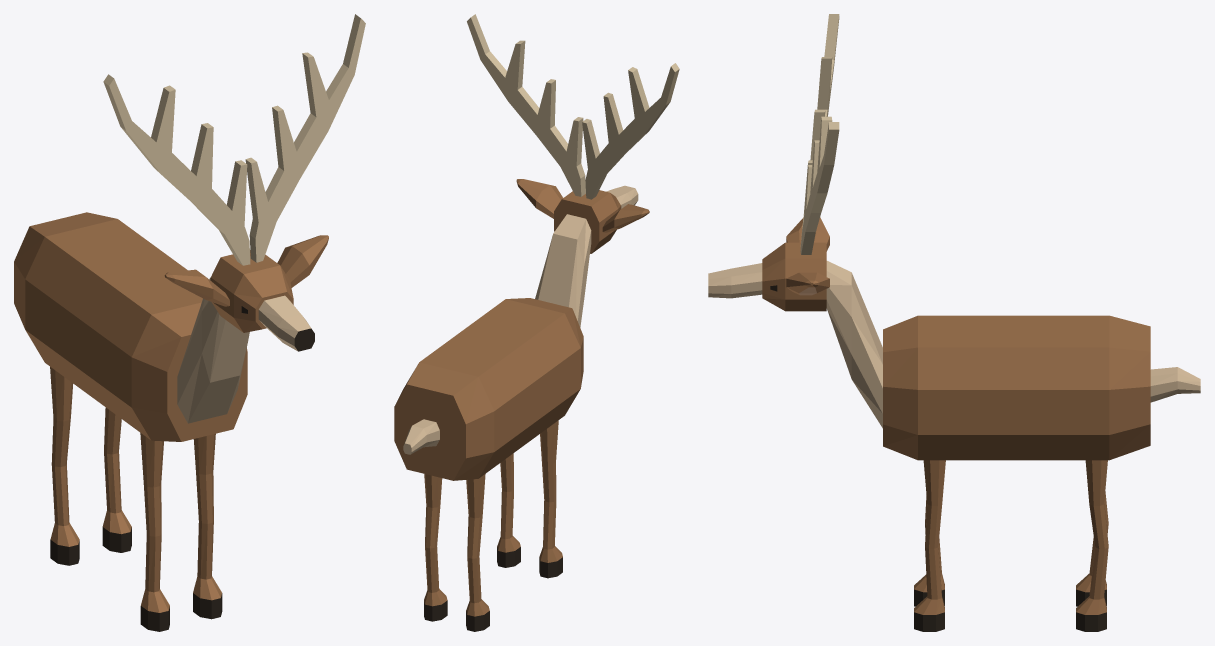
3 renders of one model, left to right at view 1: azimuth 30°, elevation 25°; view 2: azimuth 150°, elevation 25°; view 3: azimuth 270°, elevation 25°, orthographic. The views are drawn at different scales.
Parts seen in each view (by area): view 1: LongTaperedDeerTorso, RightCompleteFourTipBranchedAntler, LeftCompleteFourTipBranchedAntler, AscendingSlenderNeck, SmallCheekedHead_IntegralEyes, LeftForeContinuousLegAndHoof, LeftHindContinuousLegAndHoof, RightForeContinuousLegAndHoof, RightHindContinuousLegAndHoof, TaperedMuzzle_IntegralNose, RightOutwardPointedThickEar, LeftOutwardPointedThickEar; view 2: LongTaperedDeerTorso, RightCompleteFourTipBranchedAntler, LeftCompleteFourTipBranchedAntler, AscendingSlenderNeck, LeftHindContinuousLegAndHoof, LeftForeContinuousLegAndHoof, RightHindContinuousLegAndHoof, SmallCheekedHead_IntegralEyes, RightForeContinuousLegAndHoof, RightOutwardPointedThickEar, ShortTaperedTail, LeftOutwardPointedThickEar (+1 smaller); view 3: LongTaperedDeerTorso, AscendingSlenderNeck, SmallCheekedHead_IntegralEyes, RightHindContinuousLegAndHoof, RightForeContinuousLegAndHoof, RightCompleteFourTipBranchedAntler, LeftCompleteFourTipBranchedAntler, TaperedMuzzle_IntegralNose, ShortTaperedTail, RightOutwardPointedThickEar.
Part boxes in pixels (x1,y1,x2,y2): LongTaperedDeerTorso: (14,212,247,441); RightCompleteFourTipBranchedAntler: (245,14,365,262); LeftCompleteFourTipBranchedAntler: (103,74,250,265); AscendingSlenderNeck: (177,277,249,423); SmallCheekedHead_IntegralEyes: (210,250,293,332); LeftForeContinuousLegAndHoof: (140,433,169,631); LeftHindContinuousLegAndHoof: (50,367,79,565); RightForeContinuousLegAndHoof: (193,433,222,619); RightHindContinuousLegAndHoof: (102,407,131,552); TaperedMuzzle_IntegralNose: (258,295,314,351); RightOutwardPointedThickEar: (277,235,328,287); LeftOutwardPointedThickEar: (164,269,229,306); LongTaperedDeerTorso: (394,298,583,480); RightCompleteFourTipBranchedAntler: (467,14,585,196); LeftCompleteFourTipBranchedAntler: (582,63,679,199); AscendingSlenderNeck: (535,214,591,327); LeftHindContinuousLegAndHoof: (466,474,489,631); LeftForeContinuousLegAndHoof: (539,420,562,578); RightHindContinuousLegAndHoof: (424,474,447,621); SmallCheekedHead_IntegralEyes: (554,190,621,253); RightForeContinuousLegAndHoof: (497,453,520,567); RightOutwardPointedThickEar: (516,179,562,218); ShortTaperedTail: (403,419,439,454); LeftOutwardPointedThickEar: (602,204,649,232); LongTaperedDeerTorso: (883,315,1150,460); AscendingSlenderNeck: (826,261,882,428); SmallCheekedHead_IntegralEyes: (762,242,826,311); RightHindContinuousLegAndHoof: (1076,460,1108,631); RightForeContinuousLegAndHoof: (914,460,945,631); RightCompleteFourTipBranchedAntler: (800,116,839,254); LeftCompleteFourTipBranchedAntler: (800,14,839,246); TaperedMuzzle_IntegralNose: (708,263,762,298); ShortTaperedTail: (1150,367,1200,402); RightOutwardPointedThickEar: (786,272,829,295).
Bounding box in the file's own units: 1.28 × 2.91 × 2.37.
